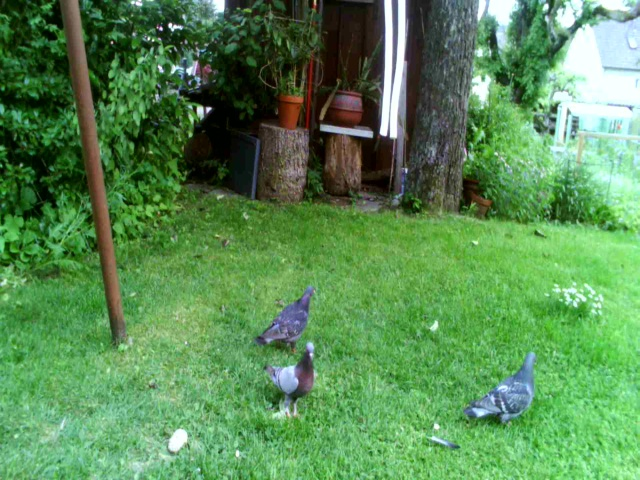Pigeon: (459, 347, 545, 434), (254, 343, 327, 419), (250, 282, 324, 352)
